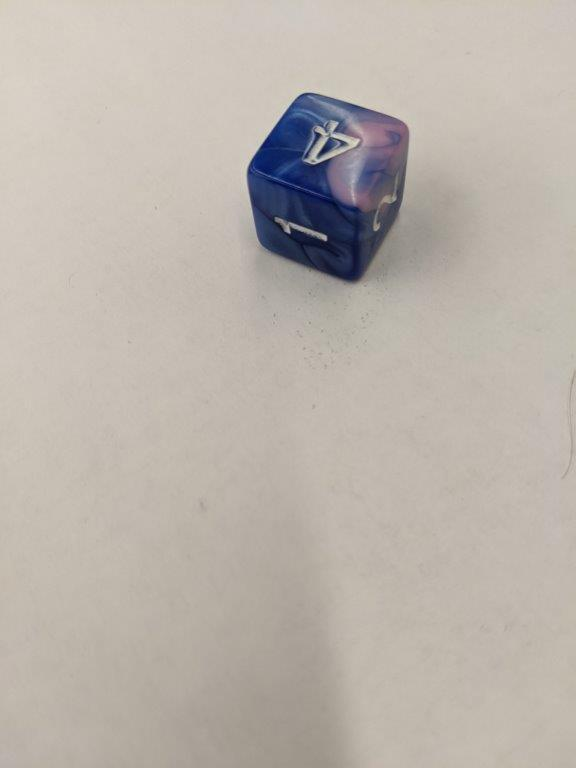d6-4: (246, 92, 408, 285)
